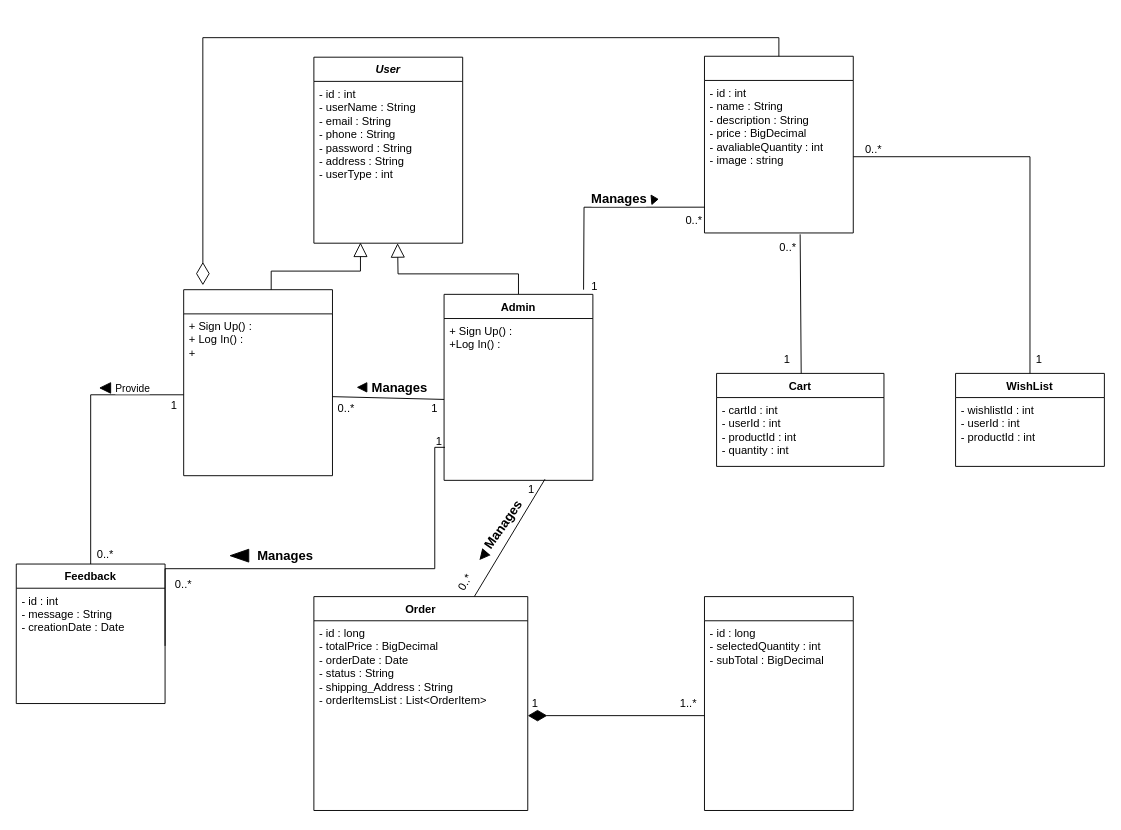
Image size: 1121x830. Some labels were removed from this diagram. The shapes that lost their labels are listed below. From the top down, each one's box as (x1, y1, x2, y2) in pixels, then its label:
(704, 55, 853, 233): Product
(183, 289, 332, 476): Customer
(704, 596, 853, 810): OrderItem
